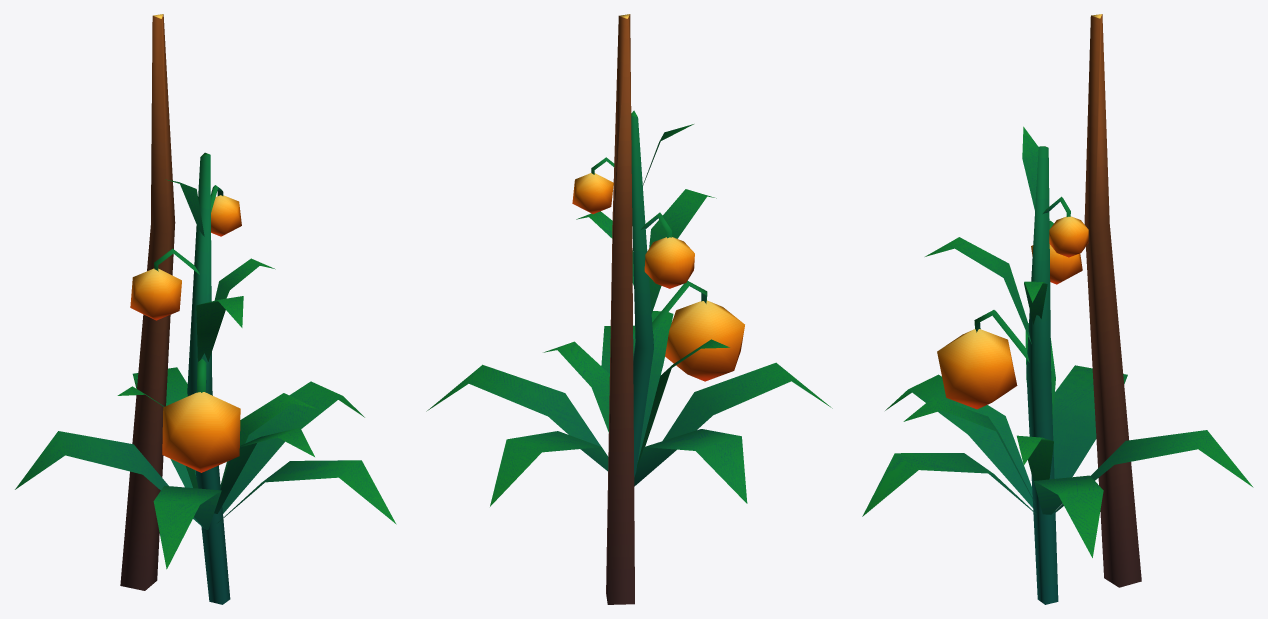
Rendered from Agricultural_Plant_4B.fbx.
3 views of the same model, side by side, from view 1: azimuth 30°, elevation 25°; view 2: azimuth 150°, elevation 25°; view 3: azimuth 270°, elevation 25° (orthographic).
Visible parts, largest first — view 1: Agricultural_Plant_4B; view 2: Agricultural_Plant_4B; view 3: Agricultural_Plant_4B.
Part boxes in pixels (<box>): Agricultural_Plant_4B: <box>15,14,396,604</box>; Agricultural_Plant_4B: <box>426,14,832,604</box>; Agricultural_Plant_4B: <box>862,14,1253,604</box>.
Size of the model in its own units: 0.9641 by 1.57 by 0.9816.
